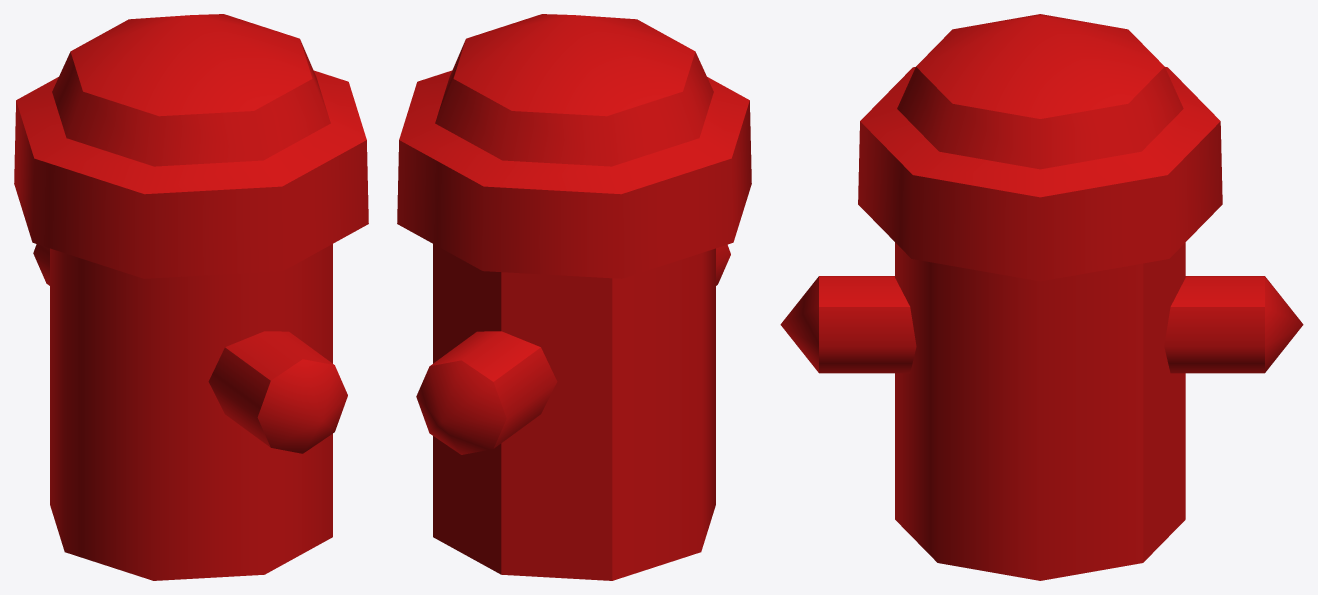
File: FireHydrant.FBX
3 renders of one model, left to right at view 1: azimuth 30°, elevation 25°; view 2: azimuth 150°, elevation 25°; view 3: azimuth 270°, elevation 25°, orthographic.
Parts seen in each view (by area): view 1: FireHydrant; view 2: FireHydrant; view 3: FireHydrant.
Boxes of the visible parts, x1,y1,x2,y2 form: FireHydrant: (14, 14, 368, 580); FireHydrant: (397, 14, 751, 580); FireHydrant: (780, 14, 1303, 580).
Bounding box in the file's own units: 1.12 × 1.7 × 1.6.
